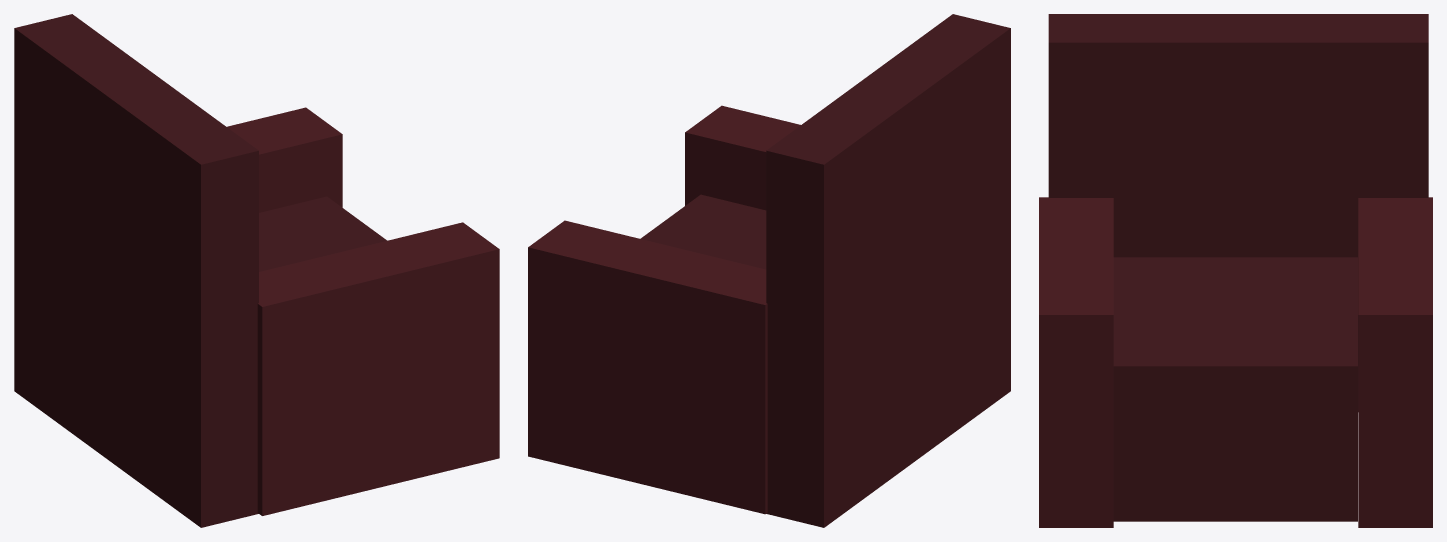
The model's file is Seat.fbx.
3 renders of one model, left to right at view 1: azimuth 30°, elevation 25°; view 2: azimuth 150°, elevation 25°; view 3: azimuth 270°, elevation 25°, orthographic.
Visible parts, largest first — view 1: Cube.023, Cube.021, Cube.022, Cube.020; view 2: Cube.023, Cube.022, Cube.021, Cube.020; view 3: Cube.023, Cube.020, Cube.021, Cube.022.
Boxes of the visible parts, x1,y1,x2,y2 form: Cube.023: (14, 14, 258, 527); Cube.021: (257, 222, 499, 515); Cube.022: (227, 107, 342, 212); Cube.020: (259, 196, 386, 271); Cube.023: (766, 14, 1010, 527); Cube.022: (528, 220, 767, 514); Cube.021: (685, 105, 800, 210); Cube.020: (640, 194, 766, 269); Cube.023: (1048, 14, 1428, 411); Cube.020: (1113, 257, 1357, 521); Cube.021: (1039, 197, 1113, 527); Cube.022: (1358, 197, 1432, 527).
Size of the model in its own units: 294 by 347 by 335.
